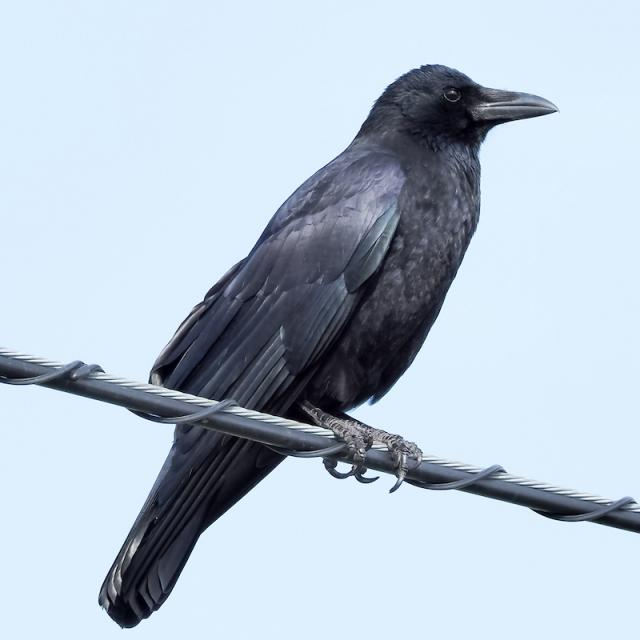crow: (86, 54, 571, 632)
